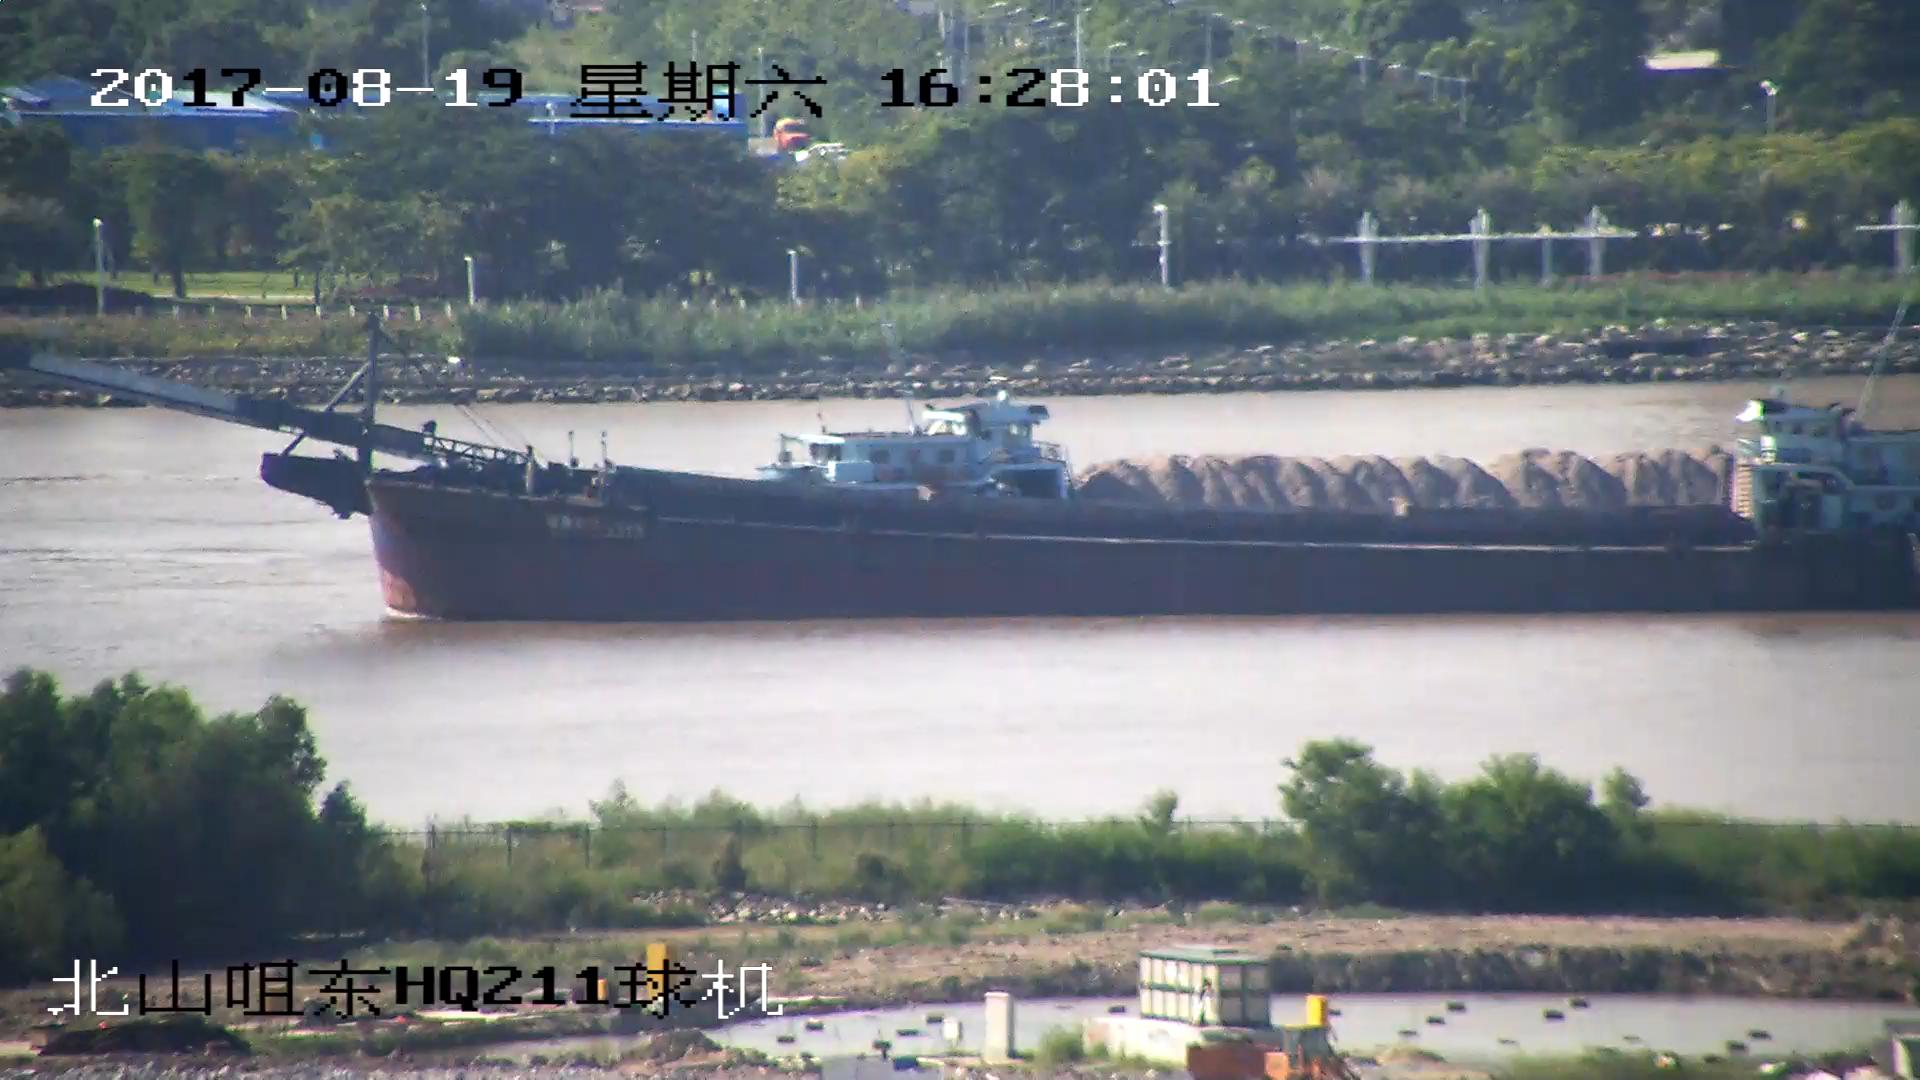bulk cargo carrier: (8, 340, 1920, 620)
ore carrier: (756, 415, 1724, 523)
